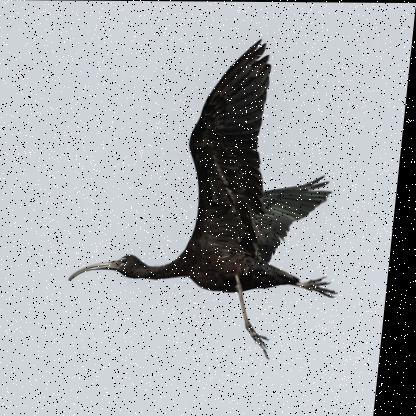Burung: (66, 40, 363, 354)
